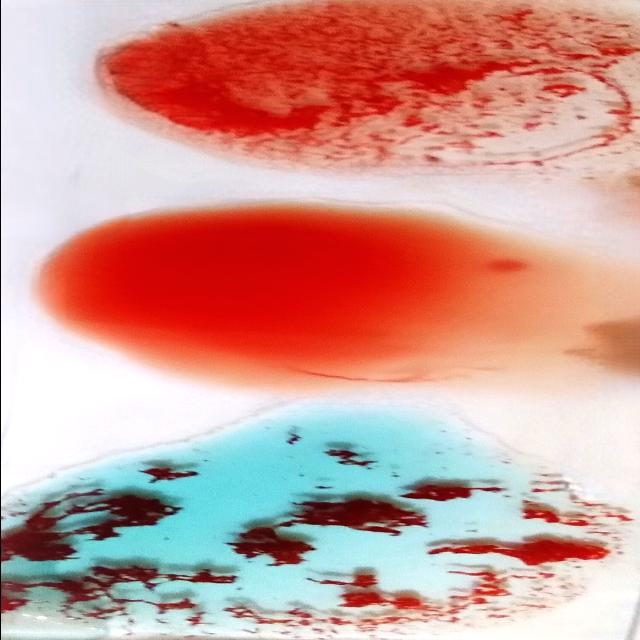A: (9, 434, 619, 636)
D: (89, 6, 640, 168)
